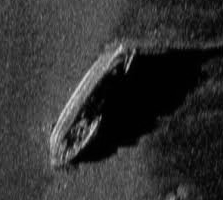ship: (47, 38, 136, 170)
